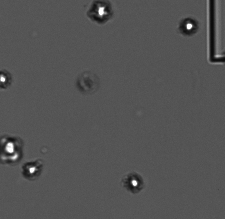Dead Cell: (76, 69, 98, 93)
Living Cell: (1, 135, 24, 165), (86, 1, 114, 24), (124, 171, 144, 192), (22, 160, 42, 179), (179, 16, 198, 35), (1, 68, 13, 90)
